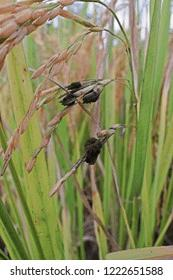False Smut: (75, 128, 128, 165), (61, 80, 108, 107)
